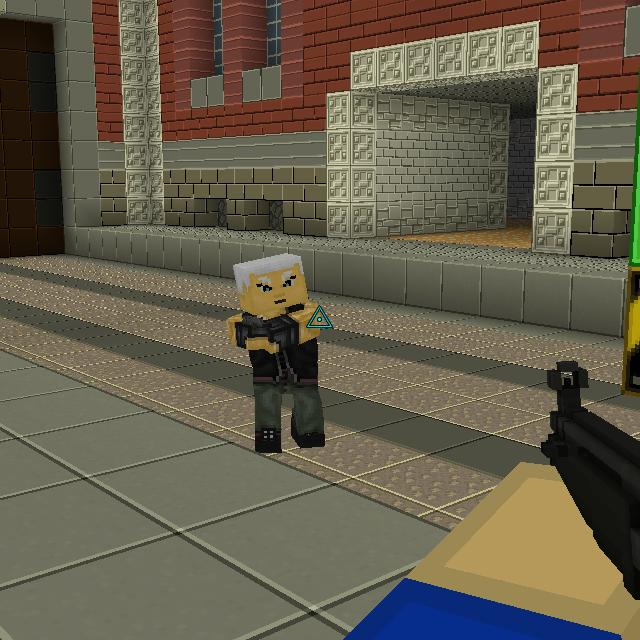enemy: (222, 244, 334, 453)
